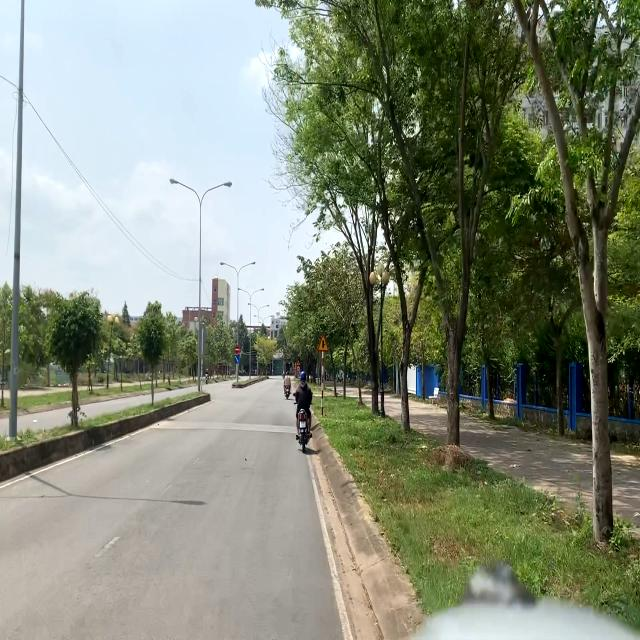P.102: (234, 345, 240, 354)
R.302a: (234, 355, 240, 364)
W.207b: (317, 334, 329, 353)
